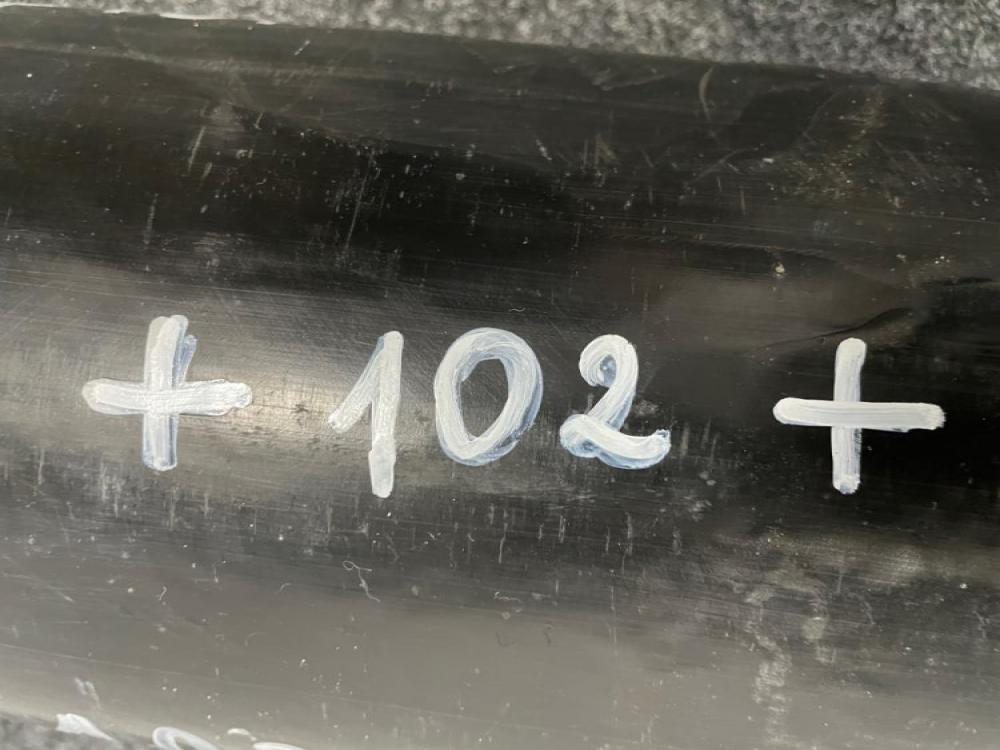+: (333, 572, 550, 710), (368, 58, 587, 194)
0: (379, 320, 572, 411)
1: (334, 244, 570, 306)
2: (372, 415, 560, 510)
